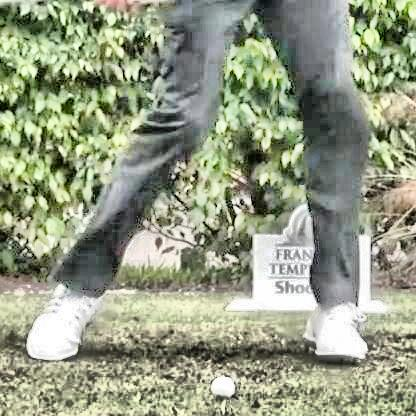golfball: (206, 372, 231, 396)
